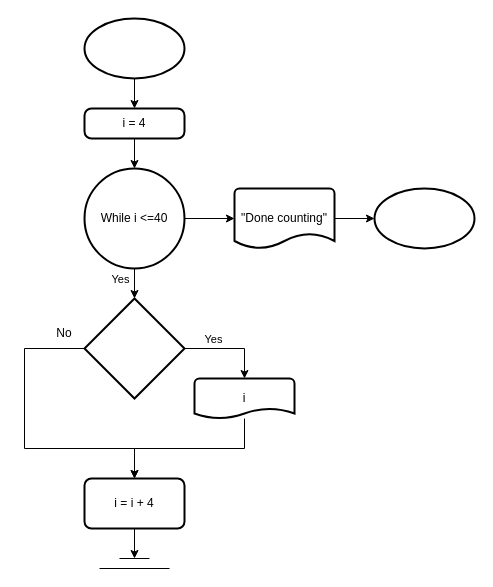
The diagram is 493 pixels wide and 587 high, and some of its shapes have lost their labels. The shapes that lost their labels are listed below. From the top down, each one's box as (x1, y1, x2, y2) in pixels, then its label:
(83, 17, 185, 79): Start
(373, 187, 475, 249): Stop
(83, 297, 185, 399): if i%4==0
